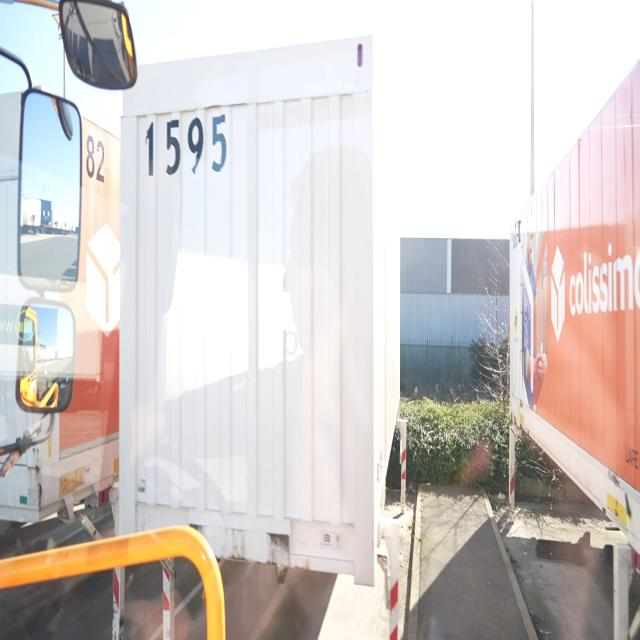Code: (135, 102, 240, 182)
